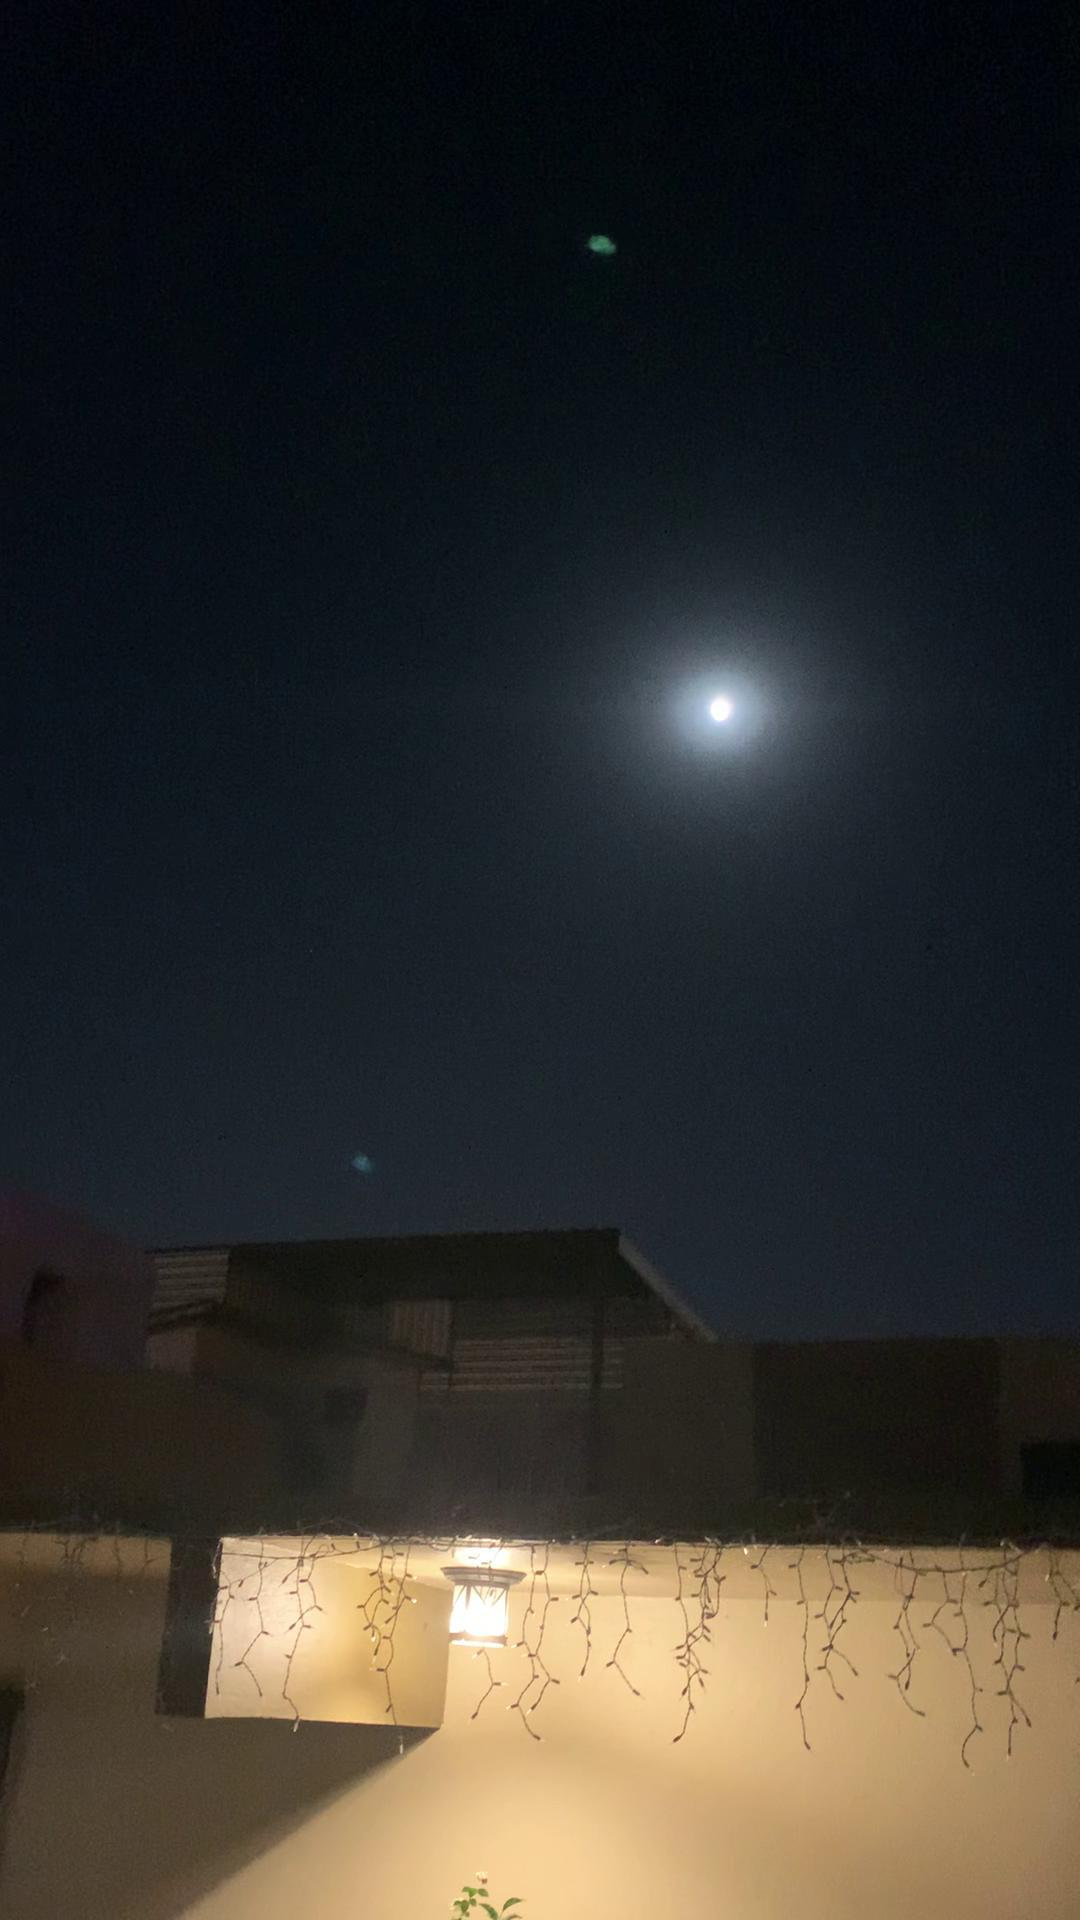moon: (678, 670, 765, 749)
